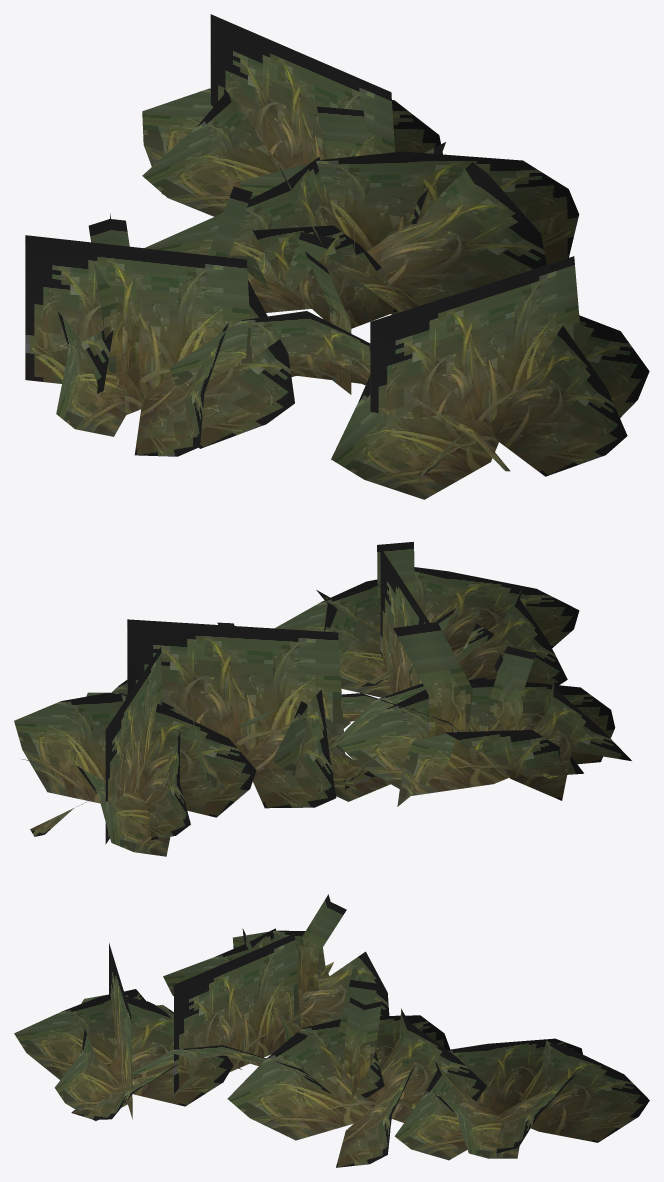
The model's file is Custom_Model_e648fe-transformed.glb.
The picture shows the model from 3 angles, top to bottom: view 1: azimuth 30°, elevation 25°; view 2: azimuth 150°, elevation 25°; view 3: azimuth 270°, elevation 25°; orthographic projection. The views are drawn at different scales.
Visible parts, largest first — view 1: World_Expansion05_doodads_spiresofarrak_doodads_6sa_watergr.; view 2: World_Expansion05_doodads_spiresofarrak_doodads_6sa_watergr.; view 3: World_Expansion05_doodads_spiresofarrak_doodads_6sa_watergr..
Boxes of the visible parts, x1=… form: World_Expansion05_doodads_spiresofarrak_doodads_6sa_watergr.: x1=25, y1=14, x2=649, y2=499; World_Expansion05_doodads_spiresofarrak_doodads_6sa_watergr.: x1=14, y1=541, x2=631, y2=856; World_Expansion05_doodads_spiresofarrak_doodads_6sa_watergr.: x1=14, y1=894, x2=649, y2=1167.
Bounding box in the file's own units: 1.14 × 0.3292 × 1.43.
Materials: 1 (1 with a texture image).
